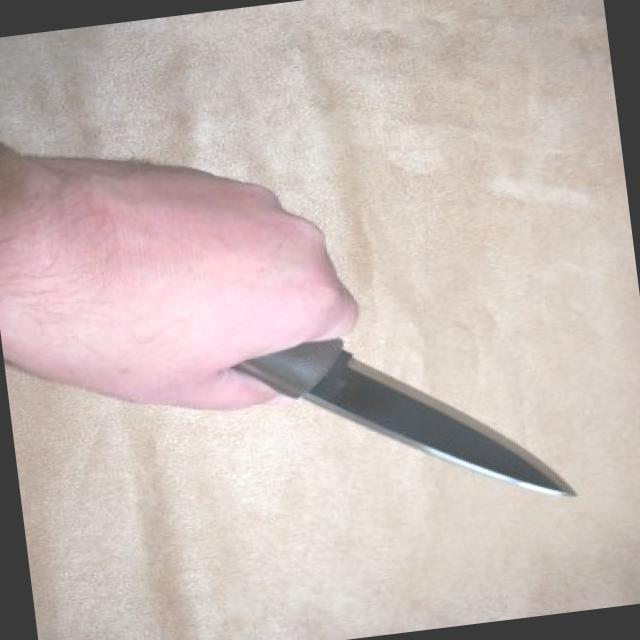knife: (184, 234, 596, 552)
